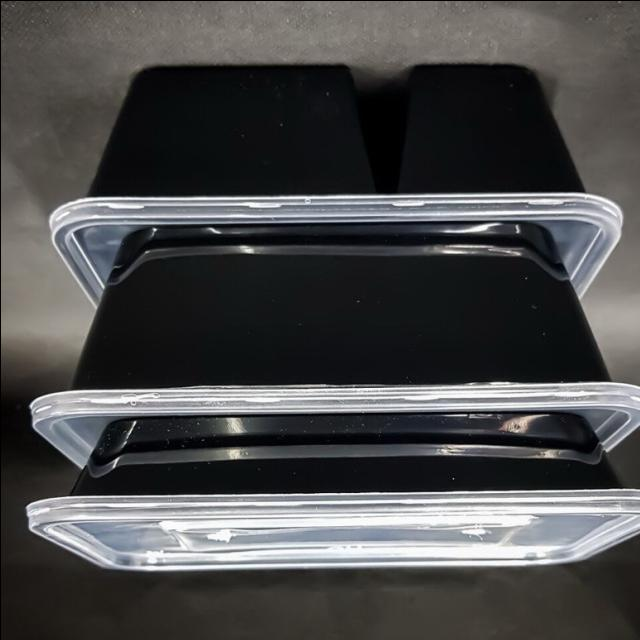plastik: (30, 223, 640, 466), (49, 66, 621, 304), (26, 413, 640, 569)
